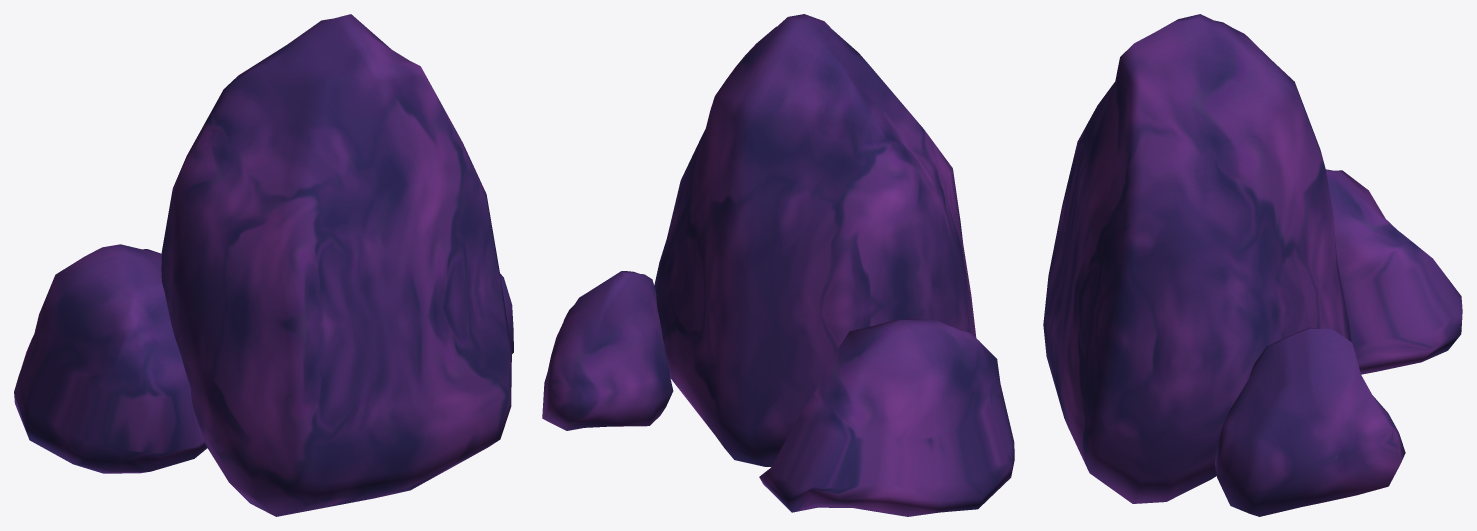
File: BasicMountain2FBX.fbx
The picture shows the model from 3 angles, left to right: view 1: azimuth 30°, elevation 25°; view 2: azimuth 150°, elevation 25°; view 3: azimuth 270°, elevation 25°; orthographic projection. The views are drawn at different scales.
Parts seen in each view (by area): view 1: pCube1, pCube2; view 2: pCube1, pCube2, pCube3; view 3: pCube1, pCube3, pCube2.
Part boxes in pixels (bbox=[...]): pCube1: bbox=[161, 14, 511, 516]; pCube2: bbox=[14, 244, 207, 473]; pCube1: bbox=[654, 14, 976, 466]; pCube2: bbox=[759, 317, 1014, 516]; pCube3: bbox=[542, 271, 673, 430]; pCube1: bbox=[1043, 14, 1351, 503]; pCube3: bbox=[1215, 327, 1405, 516]; pCube2: bbox=[1326, 169, 1462, 374].
Bounding box in the file's own units: 73.49 × 70.51 × 58.63.
1 material, 1 textured.
